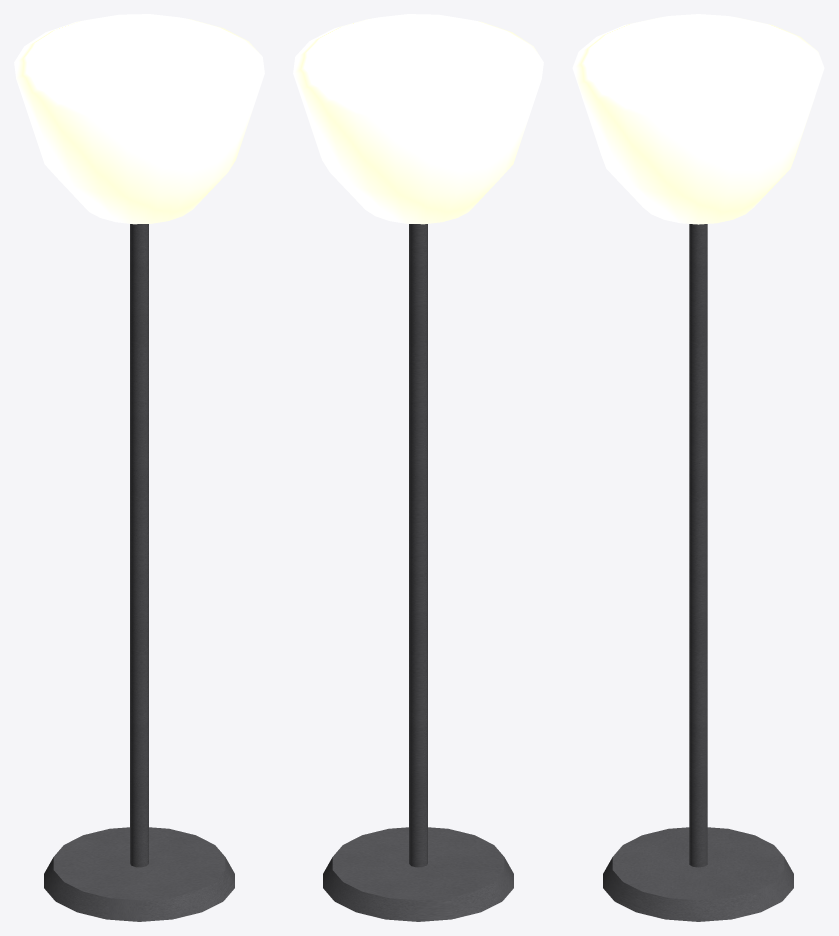
File: floor_lamp.glb
3 views of the same model, side by side, from view 1: azimuth 30°, elevation 25°; view 2: azimuth 150°, elevation 25°; view 3: azimuth 270°, elevation 25° (orthographic).
Parts seen in each view (by area): view 1: Shade, floor_lamp_body; view 2: Shade, floor_lamp_body; view 3: Shade, floor_lamp_body.
Boxes of the visible parts, left/top/right/bottom form: Shade: left=14, top=14, right=264, bottom=224; floor_lamp_body: left=44, top=224, right=234, bottom=921; Shade: left=293, top=14, right=543, bottom=224; floor_lamp_body: left=323, top=224, right=513, bottom=921; Shade: left=572, top=14, right=824, bottom=224; floor_lamp_body: left=603, top=224, right=793, bottom=921.
Size of the model in its own units: 0.52 by 1.88 by 0.52.
Materials: 2 (1 with a texture image).
